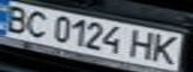0: (48, 14, 72, 44)
1: (66, 16, 87, 47)
2: (81, 19, 106, 52)
4: (103, 24, 127, 56)
B: (0, 2, 33, 34)
C: (21, 8, 54, 38)
H: (127, 28, 160, 61)
K: (148, 33, 184, 65)
